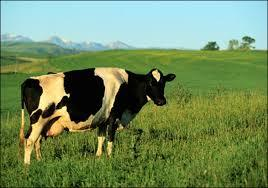cow: (19, 68, 175, 166)
